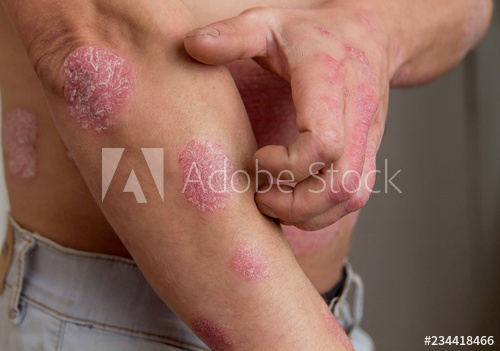Eczema: (55, 45, 245, 206), (297, 16, 387, 175)
